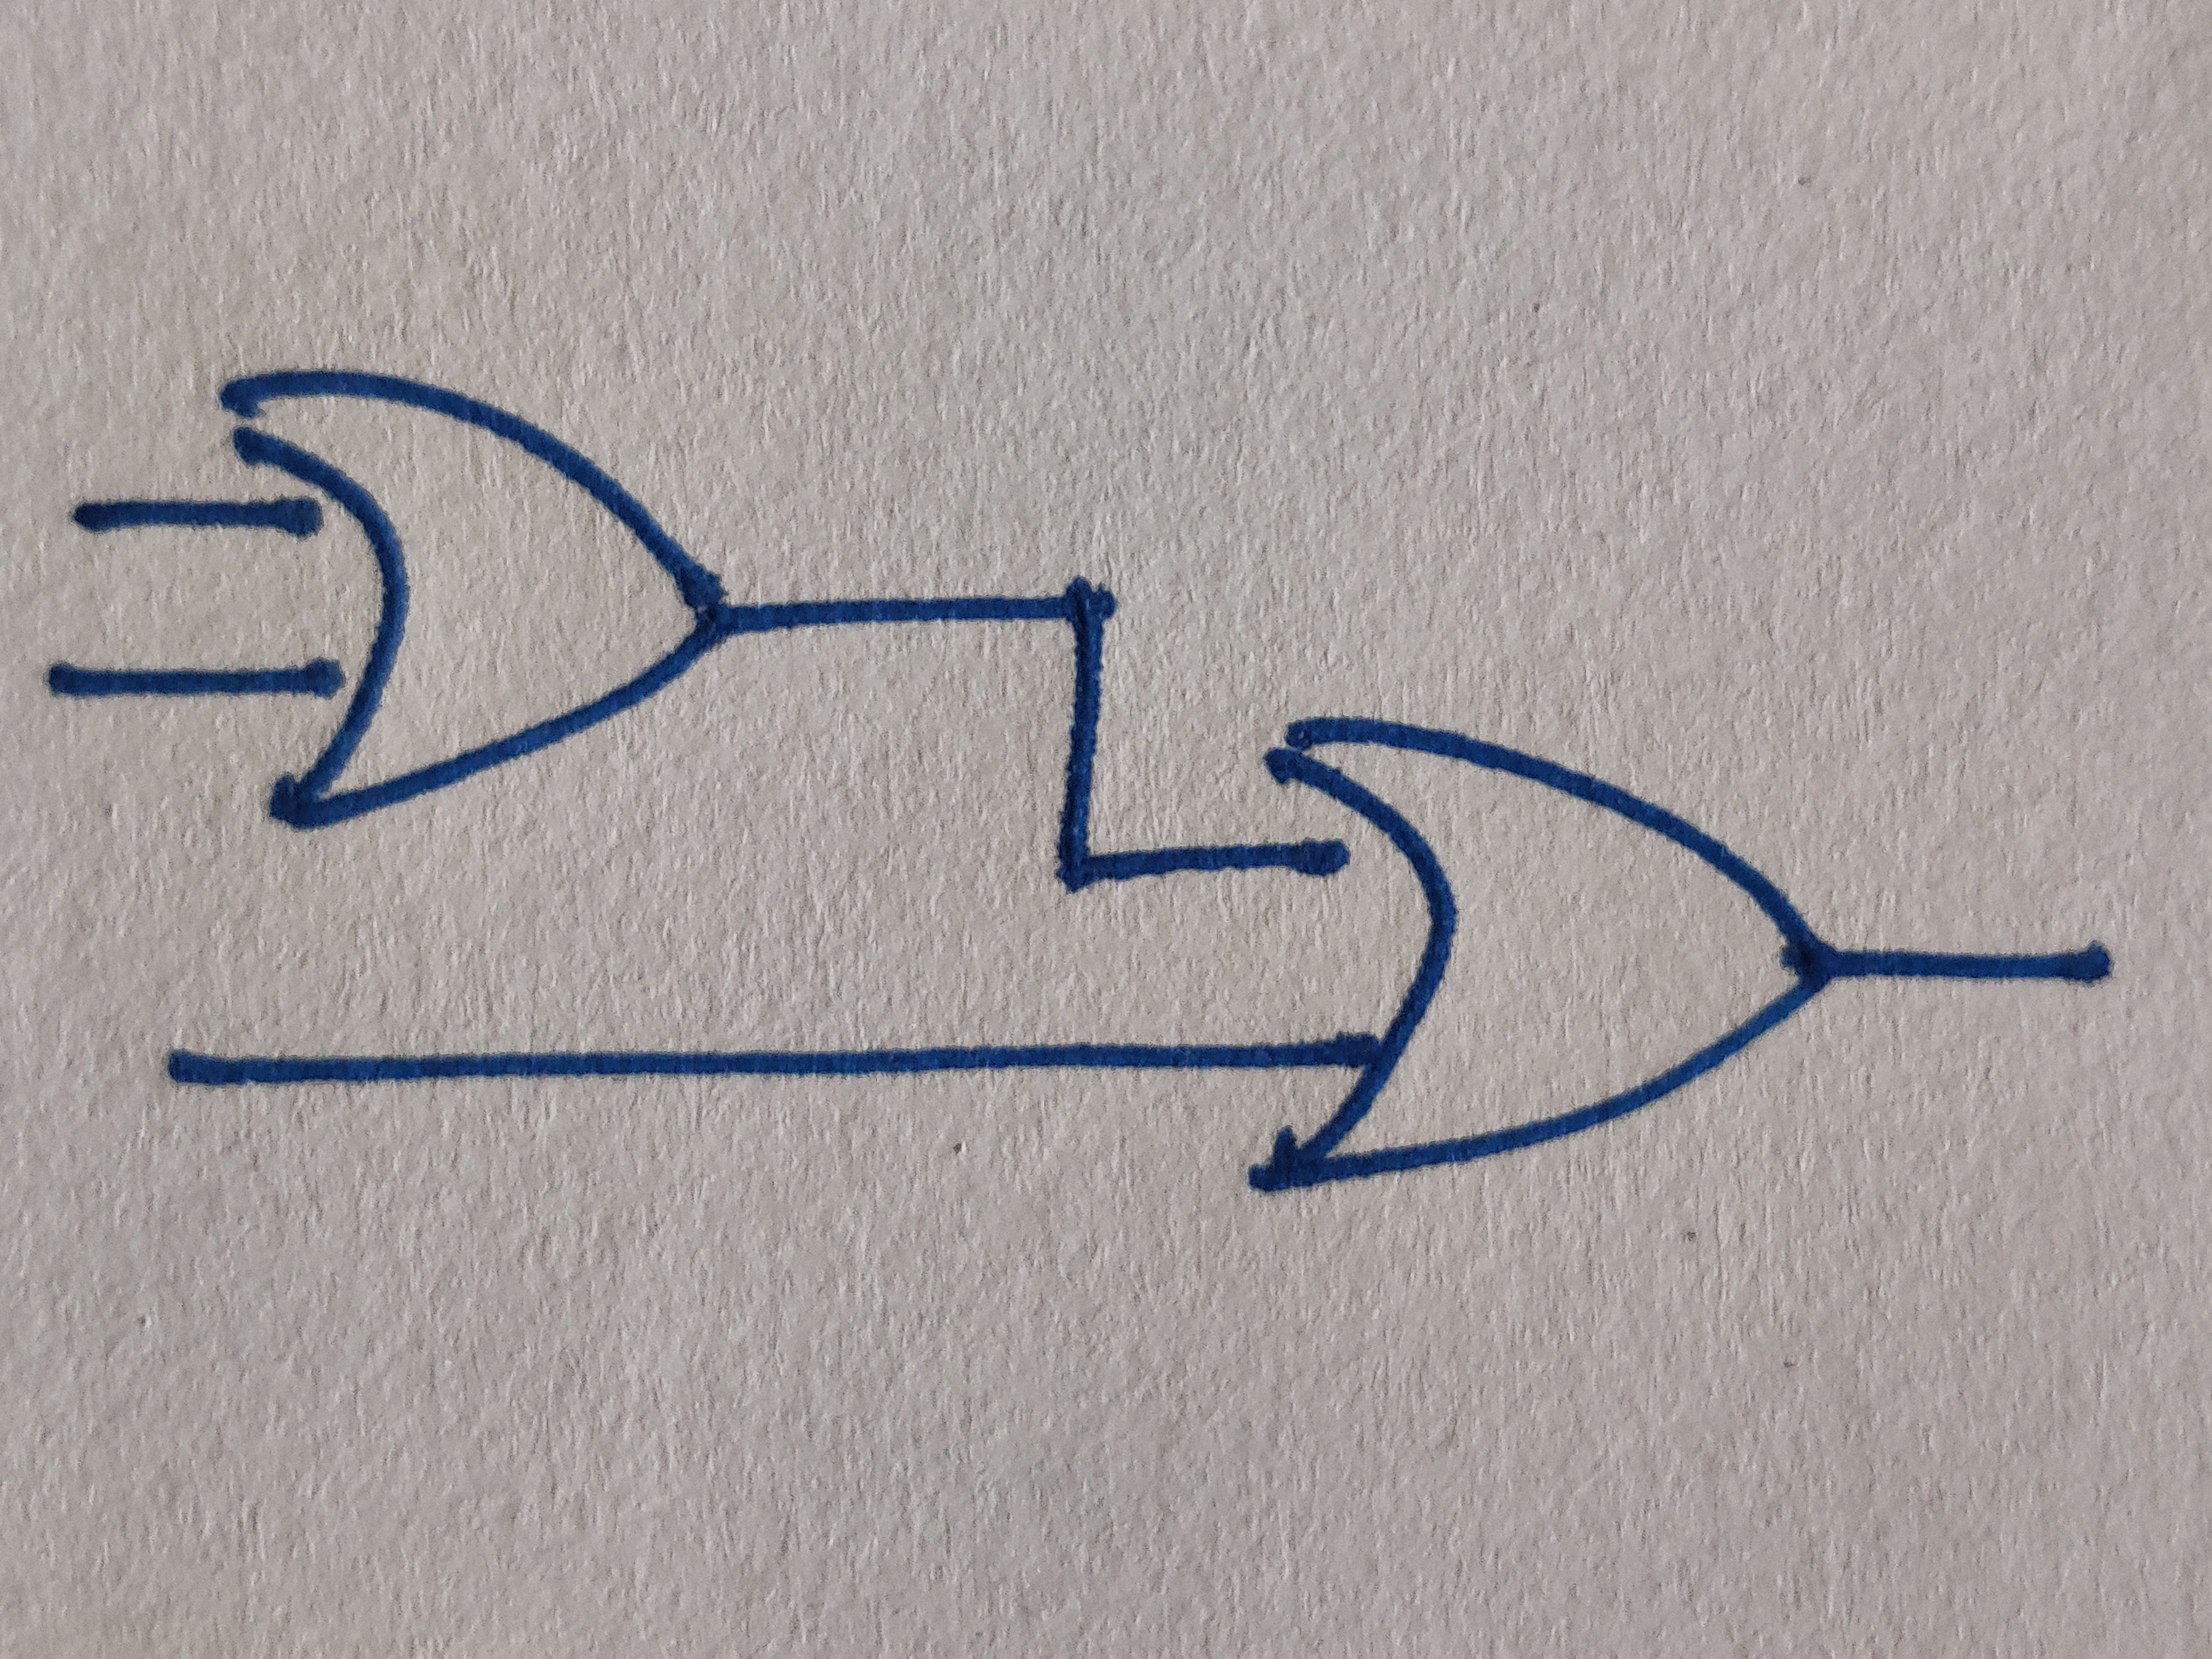or: (1254, 718, 1838, 1190), (219, 371, 726, 833)
